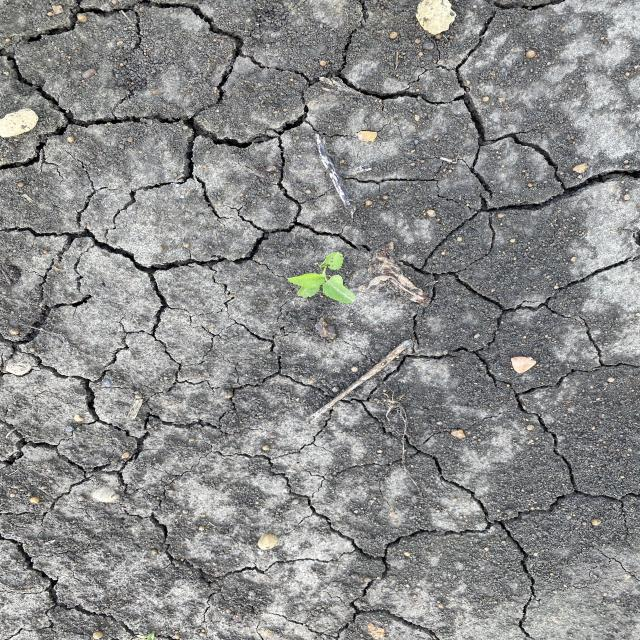PricklySida: (285, 250, 359, 305)
